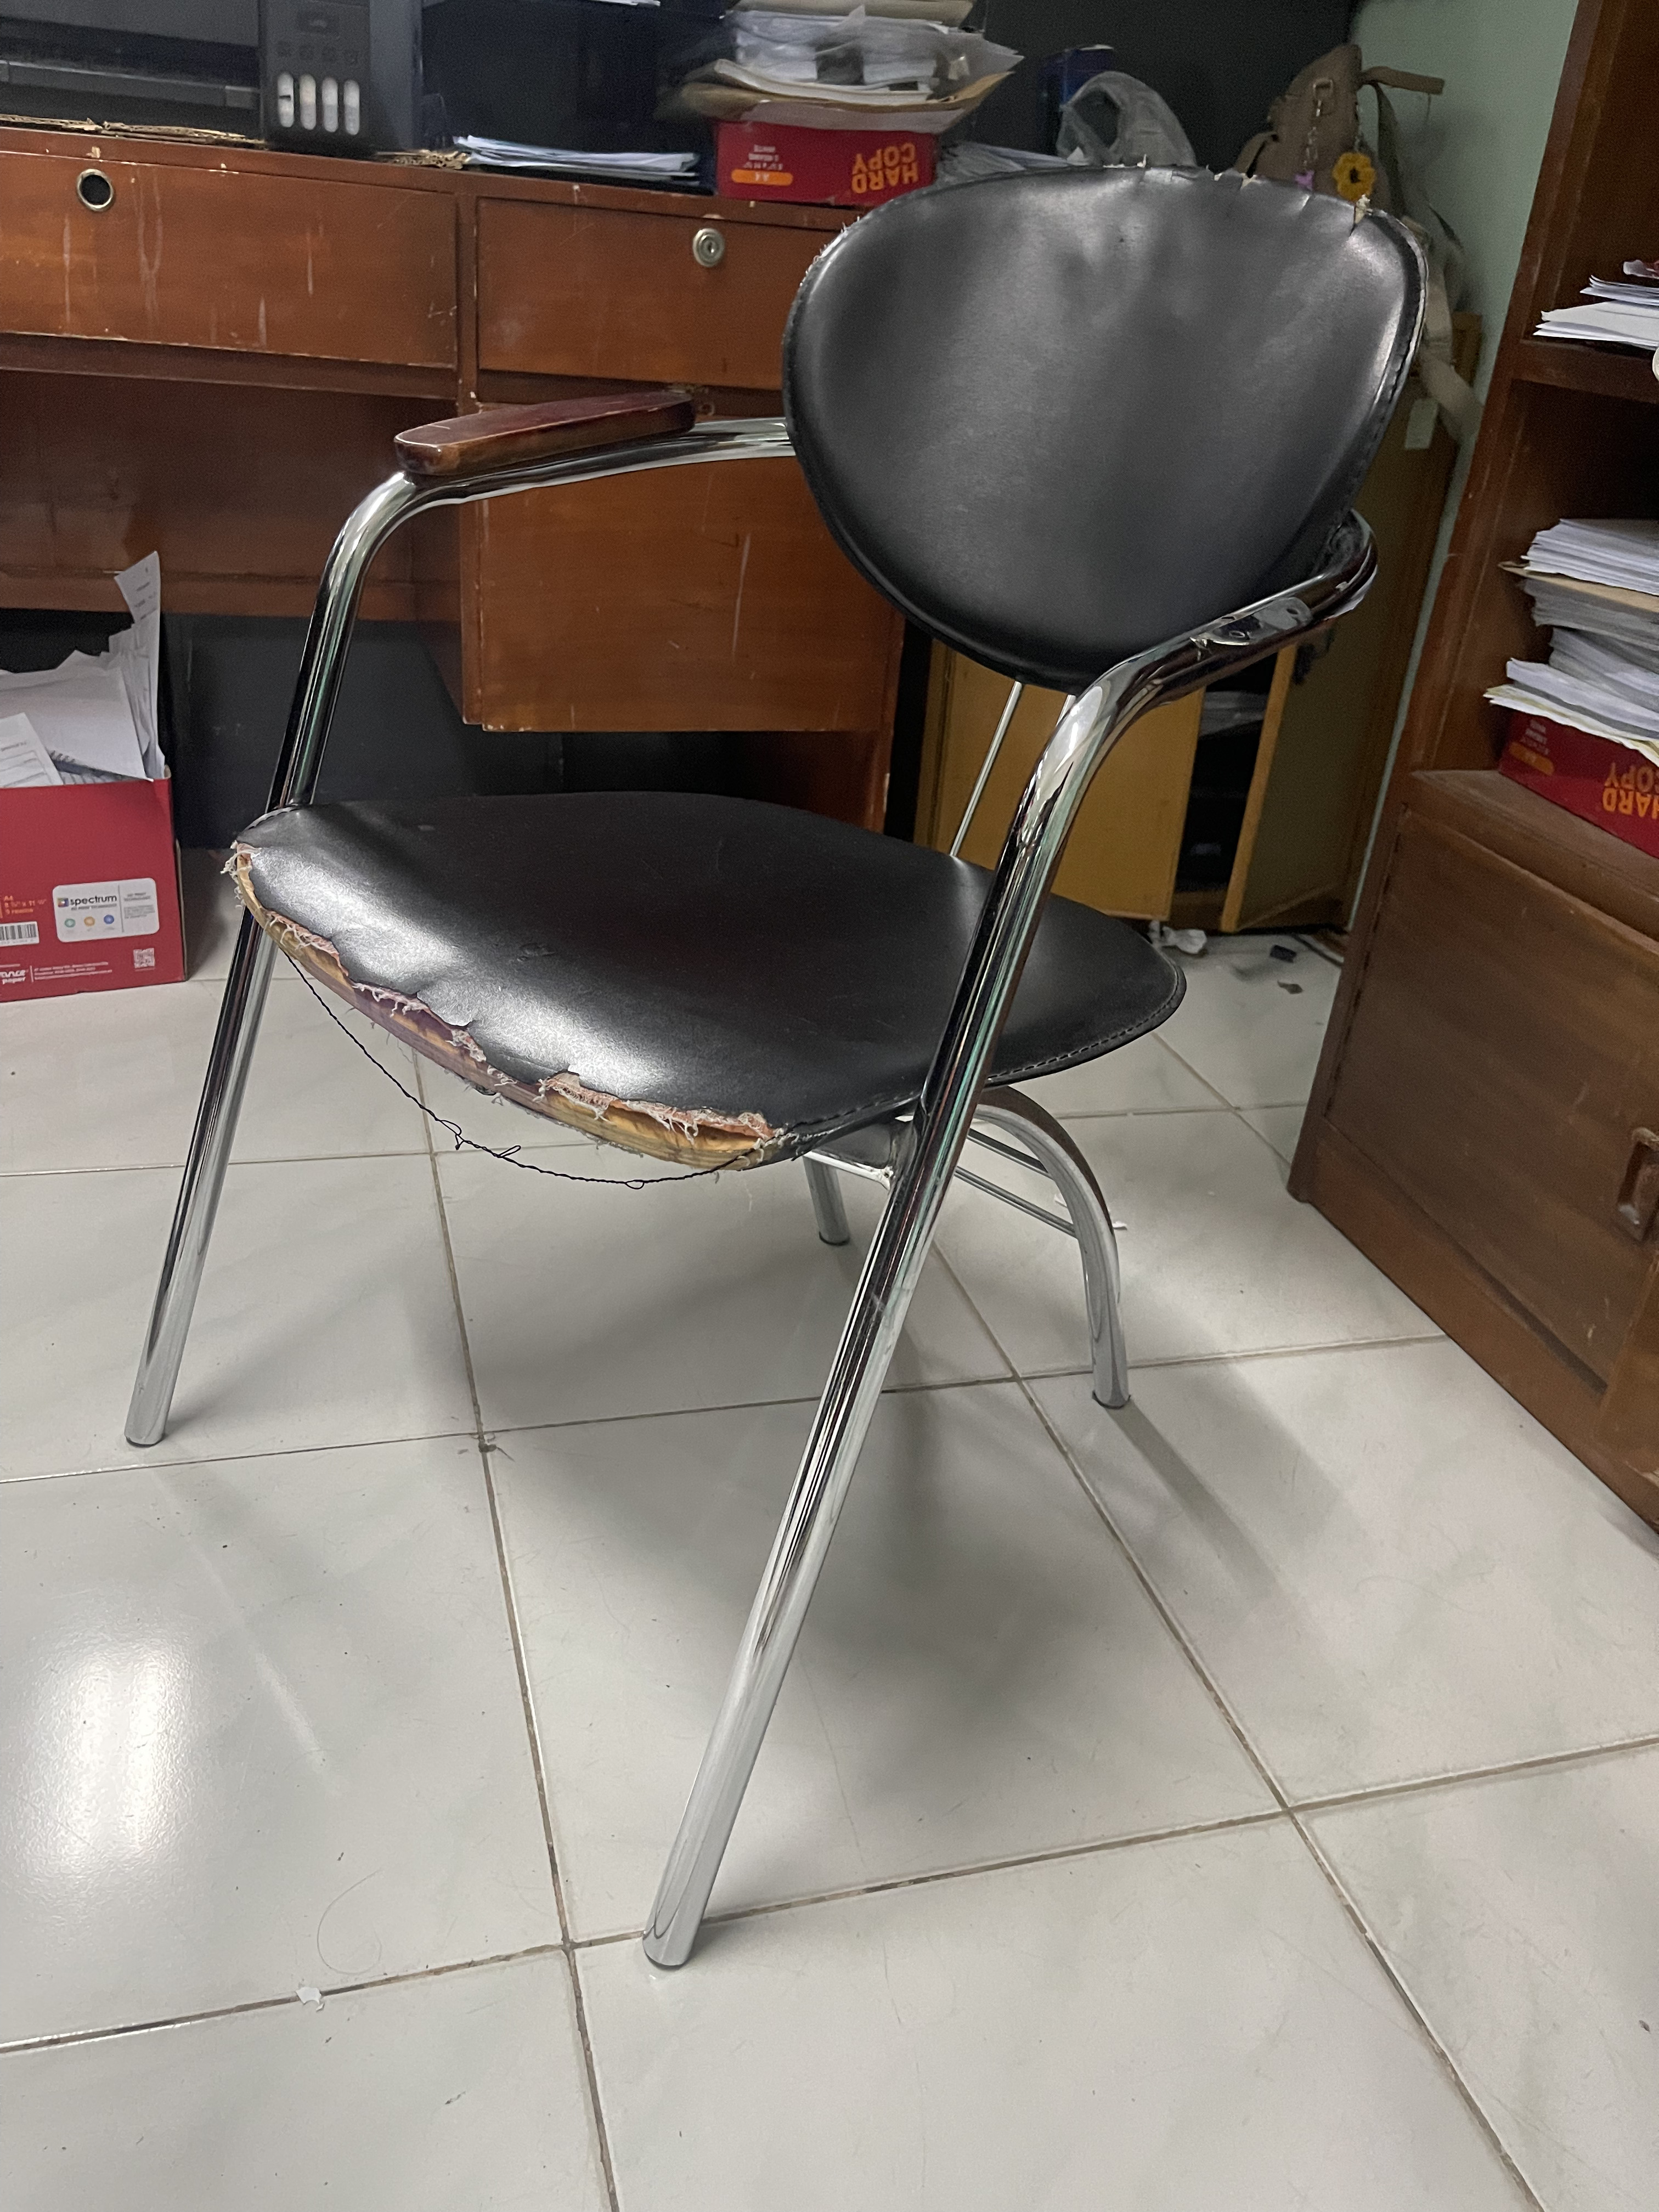chair1: (125, 162, 1443, 1979)
